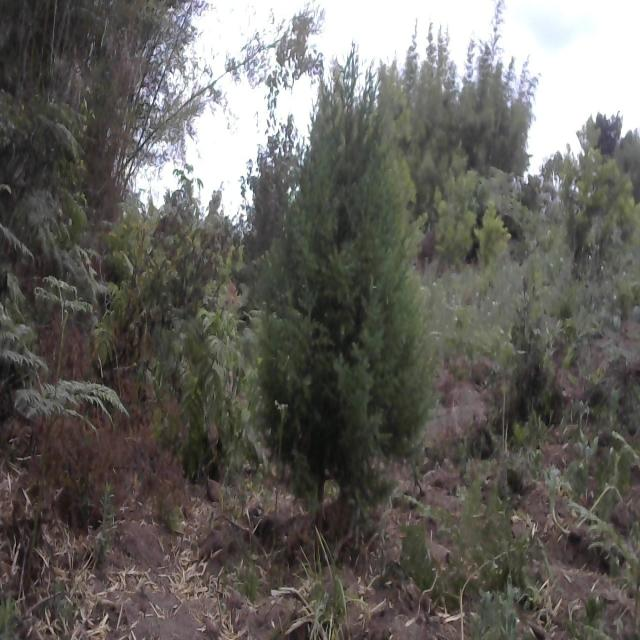Juniperus procesera: (253, 62, 446, 505)
